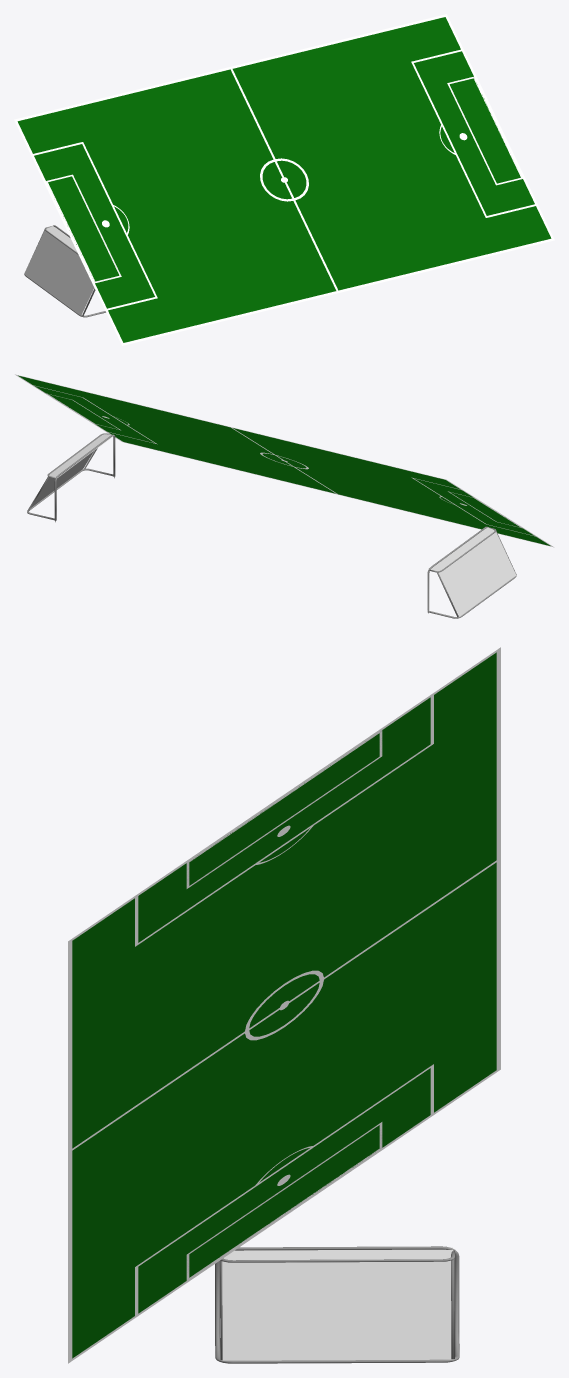
The model's file is Зелёное поле(без стенок).fbx.
3 views of the same model, one above another, from view 1: azimuth 30°, elevation 25°; view 2: azimuth 150°, elevation 25°; view 3: azimuth 270°, elevation 25° (orthographic). The views are drawn at different scales.
Visible parts, largest first — view 1: Sketchup, G-__555807; view 2: Sketchup, G-__555807, Polyg1.001, G-__555807.001, G-__555798, G-__555798.001, Polyg1, Polyg; view 3: Sketchup, G-__555807.001, Polyg1.001, G-__555798.001, Polyg.001.
Boxes of the visible parts, left/top/right/bottom form: Sketchup: left=14, top=14, right=554, bottom=345; G-__555807: left=24, top=230, right=94, bottom=315; Sketchup: left=15, top=374, right=554, bottom=547; G-__555807: left=438, top=532, right=516, bottom=616; Polyg1.001: left=27, top=434, right=115, bottom=520; G-__555807.001: left=27, top=450, right=94, bottom=510; G-__555798: left=428, top=527, right=494, bottom=571; G-__555798.001: left=49, top=434, right=114, bottom=477; Polyg1: left=427, top=526, right=516, bottom=618; Polyg: left=429, top=527, right=516, bottom=617; Sketchup: left=68, top=647, right=500, bottom=1363; G-__555807.001: left=222, top=1260, right=451, bottom=1360; Polyg1.001: left=215, top=1246, right=459, bottom=1363; G-__555798.001: left=223, top=1247, right=453, bottom=1260; Polyg.001: left=220, top=1250, right=454, bottom=1359.
Size of the model in its own units: 48060 by 15660 by 20672.
